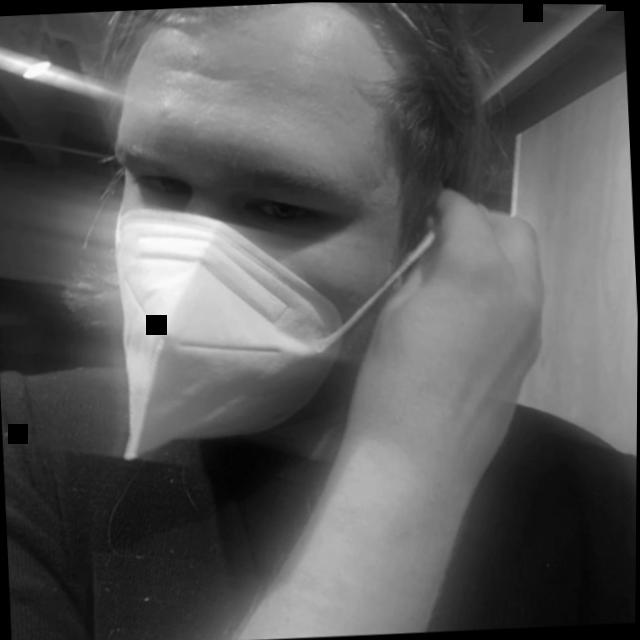Mask: (58, 0, 441, 464)
